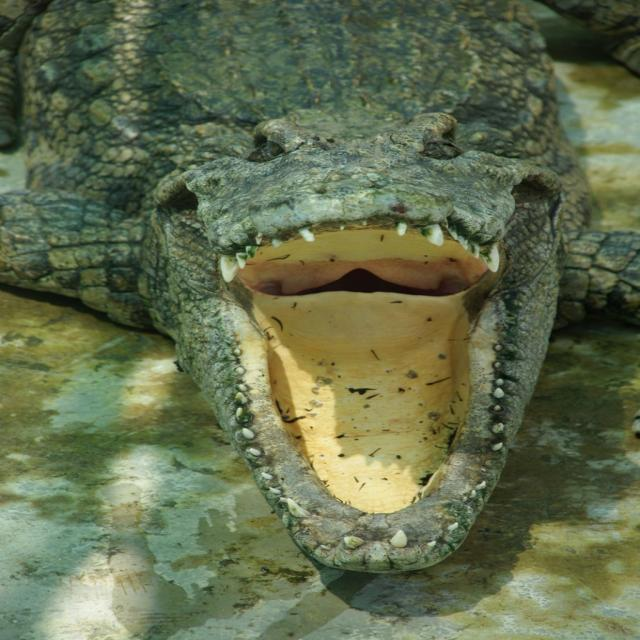crocodile: (0, 0, 639, 605)
